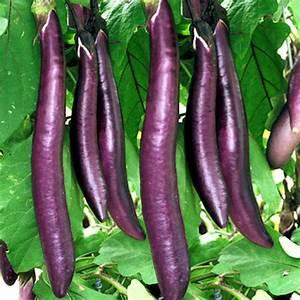eggplant: (141, 0, 188, 299), (88, 0, 144, 239), (215, 20, 272, 247), (32, 0, 74, 296), (184, 6, 227, 227), (70, 25, 107, 220)
